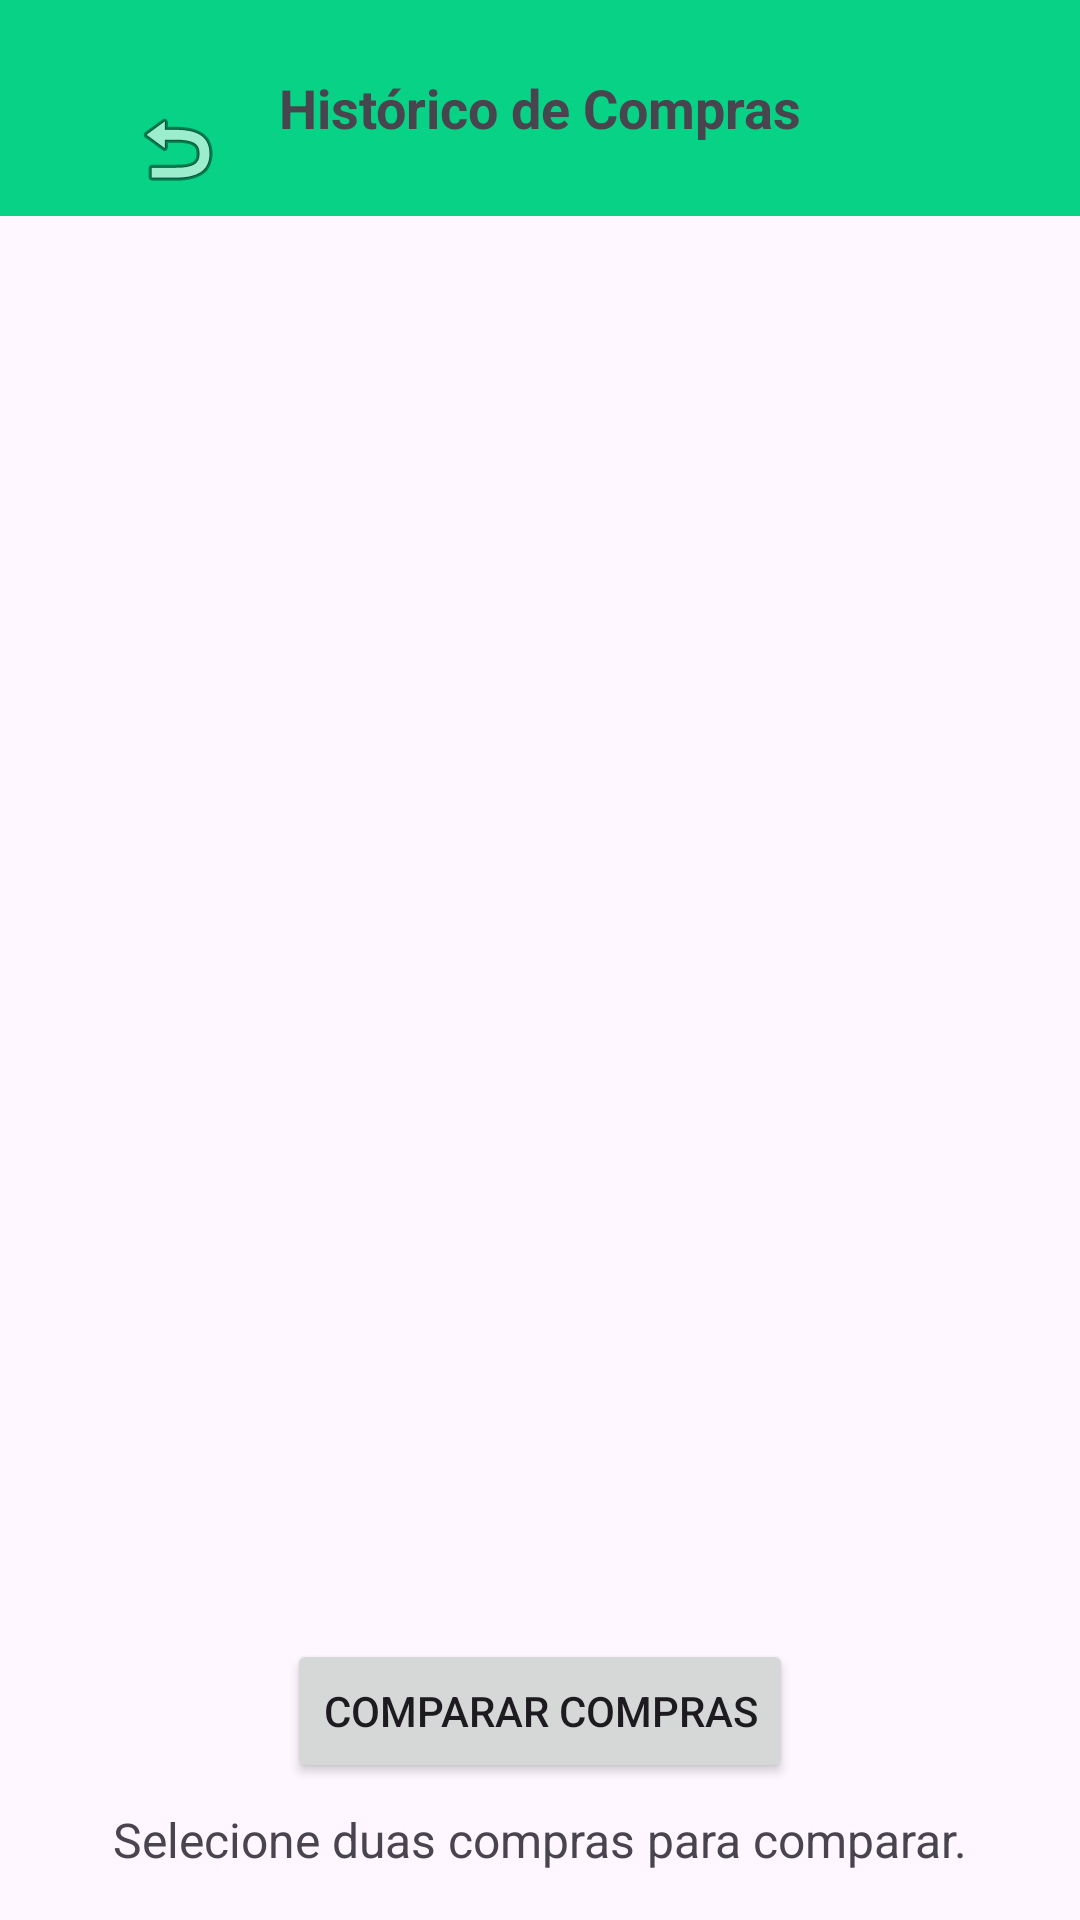

Where to tap for icons on this 1080 × 1920 app screen, as point (x, y):
revert: point (178, 149)
